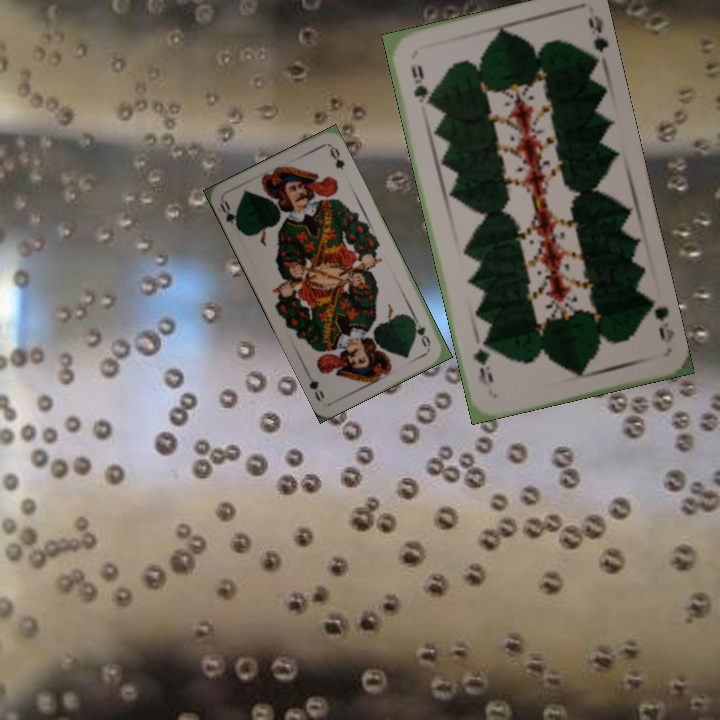G9: (644, 295, 677, 346), (407, 60, 433, 109)
GO: (216, 196, 243, 234), (406, 312, 433, 350)
